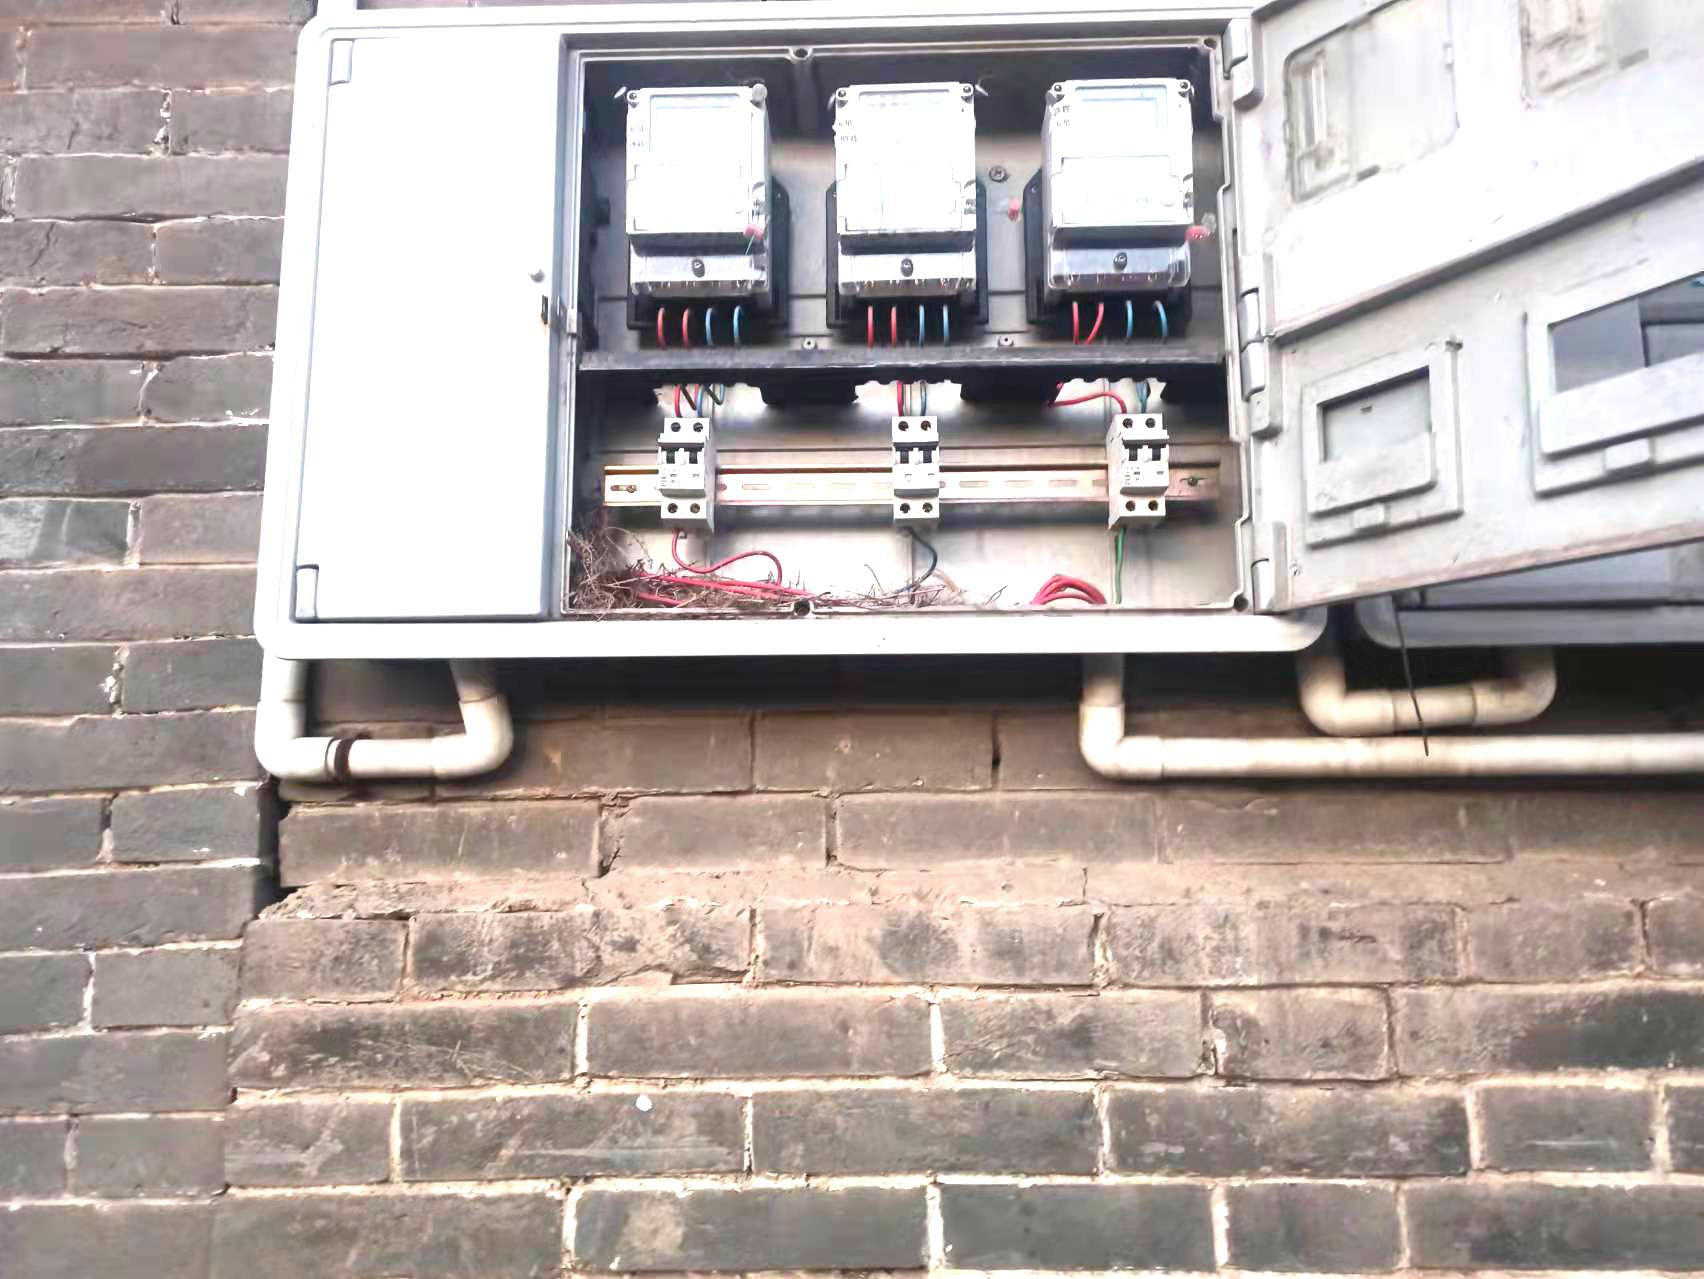digital: (1047, 74, 1194, 231), (624, 85, 767, 236), (835, 85, 976, 238)
